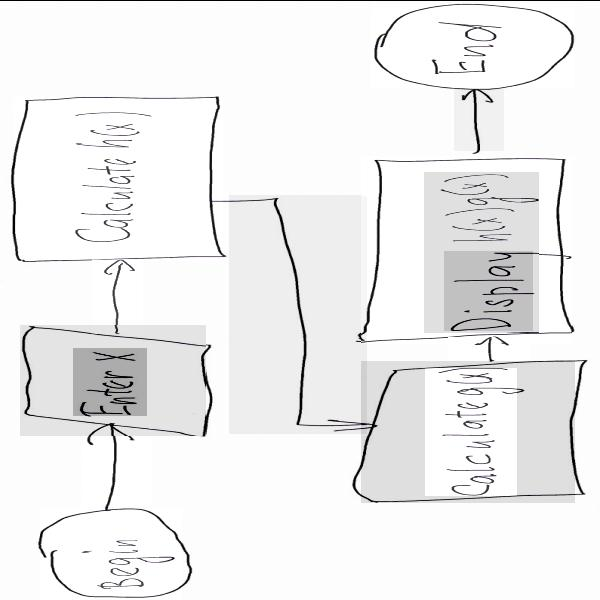arrow: (229, 194, 367, 433), (83, 424, 152, 506), (92, 258, 143, 332), (454, 88, 504, 150), (448, 336, 530, 358)
data: (21, 324, 206, 434)
process: (361, 154, 572, 342), (15, 96, 223, 260), (361, 360, 575, 502)
terminator: (371, 3, 574, 87), (40, 507, 182, 598)
text: (424, 171, 539, 332), (53, 104, 158, 249), (426, 367, 518, 495), (63, 156, 143, 246), (444, 250, 533, 330), (445, 172, 521, 242), (74, 346, 148, 414), (426, 21, 514, 74), (86, 538, 159, 590), (66, 107, 154, 150)
